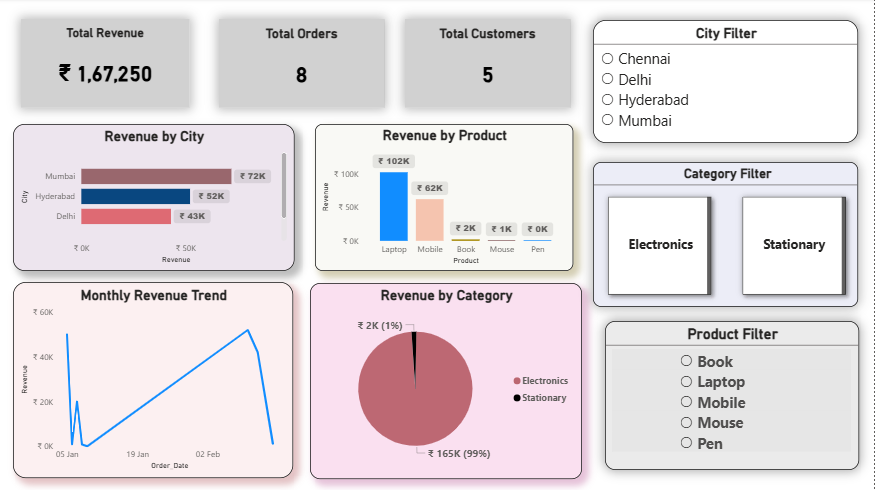

What the dashboard file says about the page in this screenshot:
{"tool":"powerbi","page":{"name":"Page 1","canvas":[1280,720],"ordinal":0},"visuals":[{"type":"card","title":"Total Revenue","fields":{"Values":["Sum(sales_data.Revenue)"]},"box":[30,30,246.7,130],"z":0},{"type":"card","title":"Total Orders","fields":{"Values":["CountNonNull(sales_data.Order_ID)"]},"box":[320,30,241.7,130],"z":1000},{"type":"card","title":"Total Customers","fields":{"Values":["Count(sales_data.Customer)"]},"box":[593.3,30,241.7,130],"z":2000},{"type":"columnChart","title":"Revenue by Product","fields":{"Category":["sales_data.Product"],"Y":["Sum(sales_data.Revenue)"]},"box":[461.7,185,378.3,215],"z":3000},{"type":"clusteredBarChart","title":"Revenue by City","fields":{"Category":["sales_data.City"],"Y":["Sum(sales_data.Revenue)"]},"box":[18.3,185,411.7,215],"z":4000},{"type":"lineChart","title":"Monthly Revenue Trend","fields":{"Y":["Sum(sales_data.Revenue)"],"Category":["sales_data.Order_Date"]},"box":[19.1,416.2,410.3,286.8],"z":5000},{"type":"pieChart","title":"Revenue by Category","fields":{"Category":["sales_data.Category"],"Y":["Sum(sales_data.Revenue)"]},"box":[453.3,416.7,398.3,286.7],"z":6000},{"type":"listSlicer","title":"City Filter","fields":{"Values":["sales_data.City"]},"box":[868.3,31.7,388.3,180],"z":7000},{"type":"advancedSlicerVisual","title":"Category Filter","fields":{"Values":["sales_data.Category"]},"box":[868.3,240,388.3,211.7],"z":7001},{"type":"listSlicer","title":"Product Filter","fields":{"Values":["sales_data.Product"]},"box":[885,473.3,371.7,218.3],"z":7002}]}

Visuals, with their boxes in screenshot pixels (x1, y1, x2, y2), scaled from the page's 1280x720 canvas onto the 875x490 screenshot:
"Total Revenue" card: left=21, top=20, right=189, bottom=109
"Total Orders" card: left=219, top=20, right=384, bottom=109
"Total Customers" card: left=406, top=20, right=571, bottom=109
"Revenue by Product" columnChart: left=316, top=126, right=574, bottom=272
"Revenue by City" clusteredBarChart: left=13, top=126, right=294, bottom=272
"Monthly Revenue Trend" lineChart: left=13, top=283, right=294, bottom=478
"Revenue by Category" pieChart: left=310, top=284, right=582, bottom=479
"City Filter" listSlicer: left=594, top=22, right=859, bottom=144
"Category Filter" advancedSlicerVisual: left=594, top=163, right=859, bottom=307
"Product Filter" listSlicer: left=605, top=322, right=859, bottom=471
